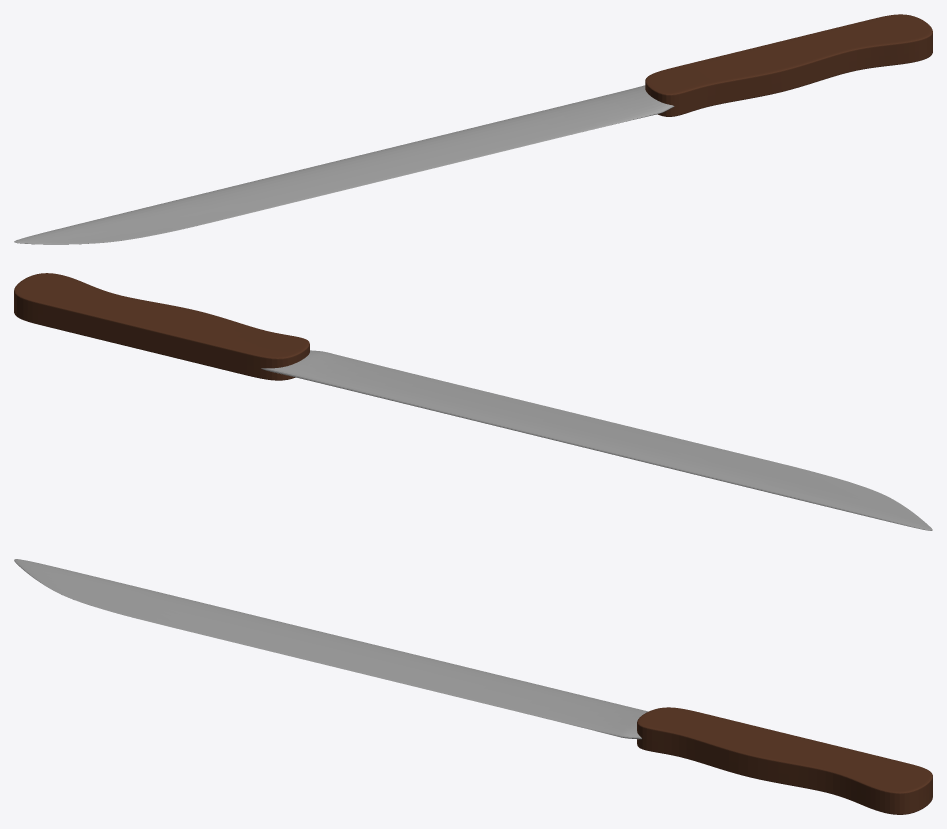
The model's file is Pisau Dapur.fbx.
3 renders of one model, top to bottom at view 1: azimuth 30°, elevation 25°; view 2: azimuth 150°, elevation 25°; view 3: azimuth 330°, elevation 25°, orthographic. The views are drawn at different scales.
Visible parts, largest first — view 1: Plane, Plane.002; view 2: Plane, Plane.002; view 3: Plane, Plane.002.
Boxes of the visible parts, x1,y1,x2,y2 form: Plane: [14, 85, 674, 244]; Plane.002: [645, 14, 932, 116]; Plane: [261, 350, 932, 530]; Plane.002: [14, 273, 309, 380]; Plane: [14, 559, 648, 739]; Plane.002: [637, 707, 932, 814].
Size of the model in its own units: 3025 by 74.92 by 196.
